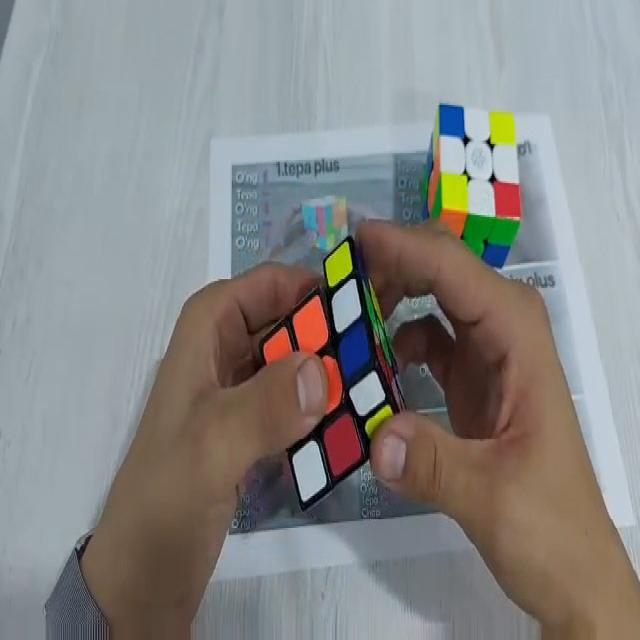Rub: (260, 235, 404, 512), (423, 102, 522, 271)
